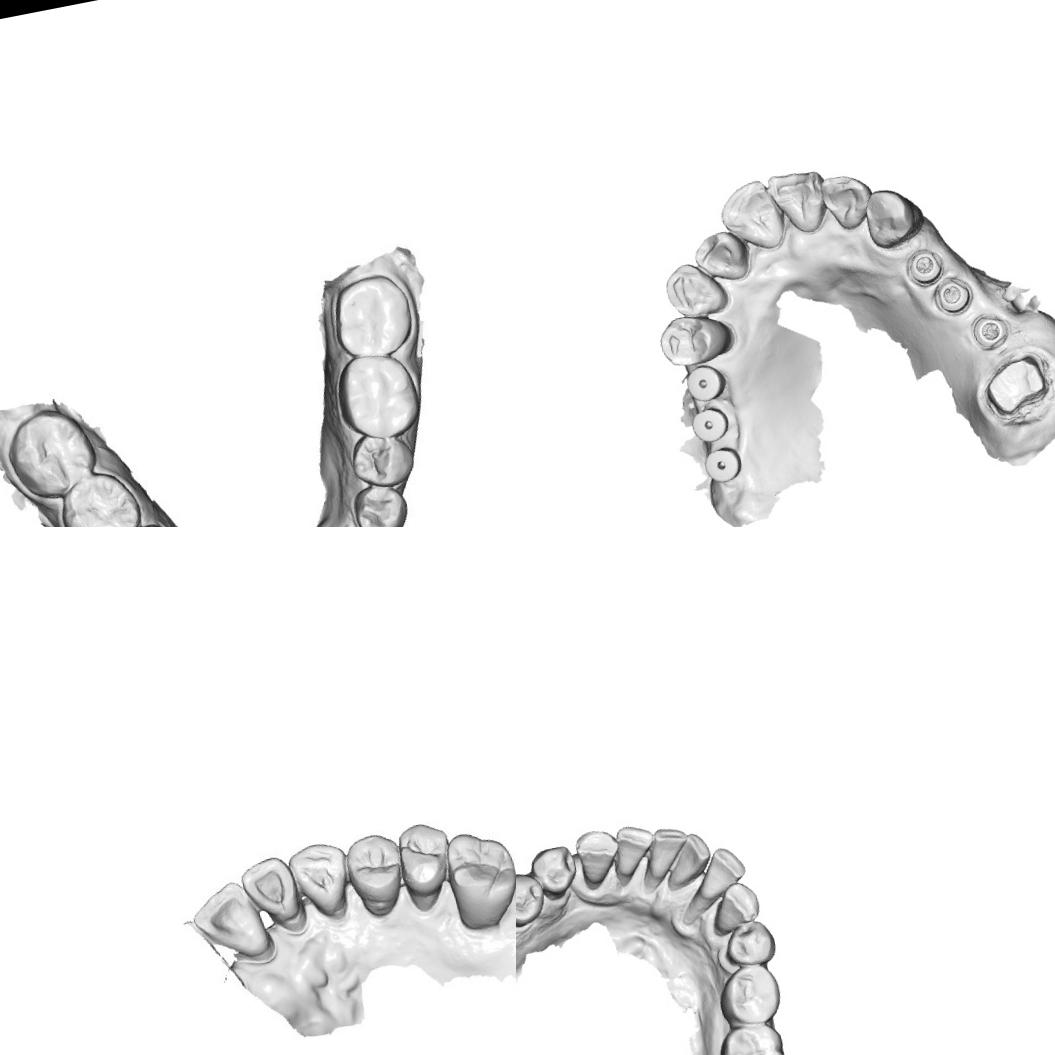canine: (286, 836, 355, 921), (659, 254, 732, 324), (858, 181, 928, 253), (704, 878, 768, 938), (571, 824, 626, 890)
crown: (976, 348, 1054, 424)
implant: (682, 360, 728, 404), (902, 244, 948, 288), (688, 402, 732, 445), (931, 273, 974, 317), (700, 443, 744, 485), (968, 310, 1012, 352)
incisor: (186, 873, 270, 966), (235, 850, 306, 940), (713, 174, 790, 256), (765, 165, 833, 240), (688, 225, 754, 288), (816, 168, 878, 234), (608, 819, 660, 880), (698, 843, 750, 899), (646, 822, 692, 872), (676, 828, 714, 884)
molar: (2, 402, 100, 509), (332, 348, 422, 443), (440, 822, 516, 924), (331, 273, 412, 358), (53, 466, 148, 527), (710, 1019, 791, 1055)
premolar: (388, 817, 458, 903), (340, 829, 410, 913), (654, 305, 739, 372), (711, 958, 785, 1031), (525, 842, 581, 902), (348, 475, 412, 527), (720, 916, 778, 971), (350, 431, 405, 483), (516, 867, 549, 930)
